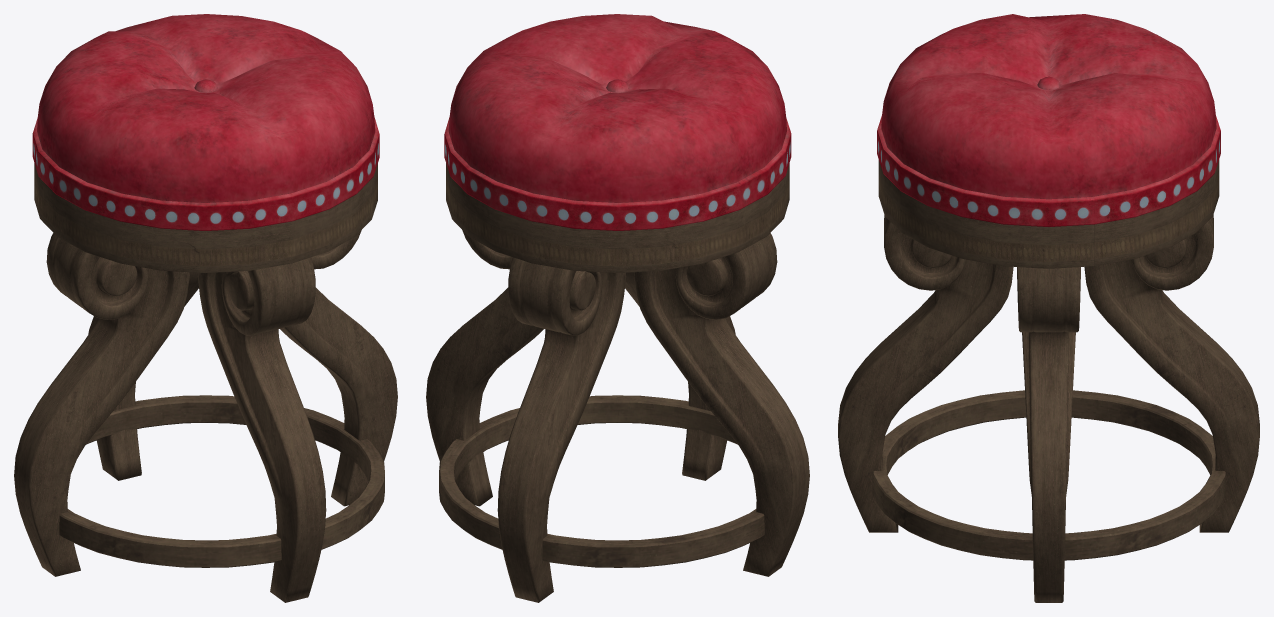
3 views of the same model, side by side, from view 1: azimuth 30°, elevation 25°; view 2: azimuth 150°, elevation 25°; view 3: azimuth 270°, elevation 25° (orthographic).
Visible parts, largest first — view 1: Low_Poly_Stool; view 2: Low_Poly_Stool; view 3: Low_Poly_Stool.
Part boxes in pixels (left/top/right/bottom): Low_Poly_Stool: left=14, top=14, right=397, bottom=602; Low_Poly_Stool: left=426, top=14, right=809, bottom=602; Low_Poly_Stool: left=838, top=14, right=1259, bottom=602.
Size of the model in its own units: 0.5766 by 0.6966 by 0.5766.
